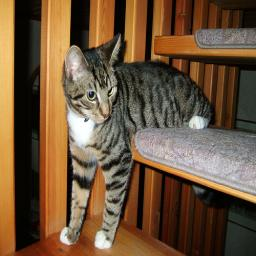catnose: (100, 112, 110, 120)
